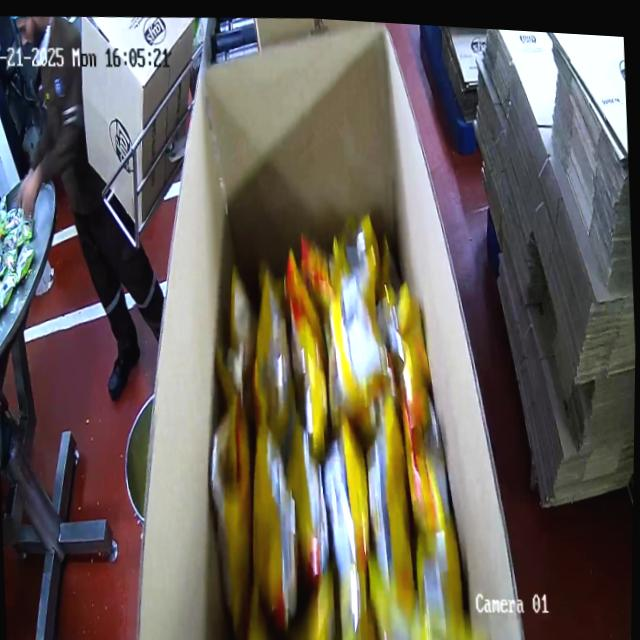SALTED: (204, 224, 483, 640)
